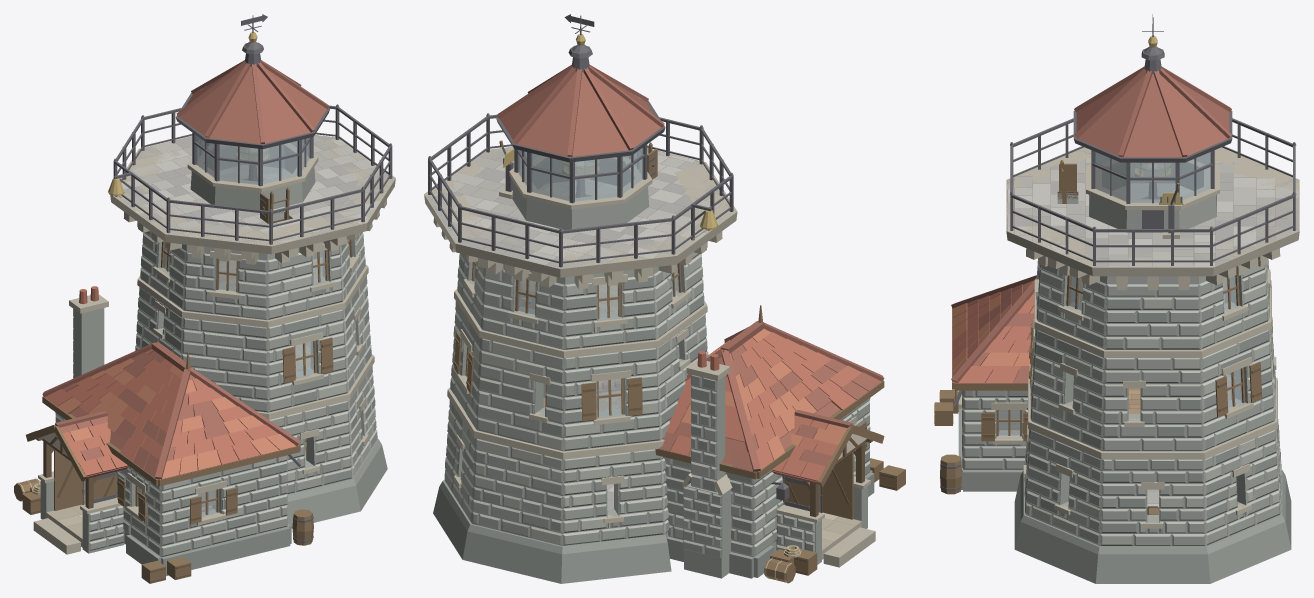
File: lastlight.glb
The picture shows the model from 3 angles, left to right: view 1: azimuth 30°, elevation 25°; view 2: azimuth 150°, elevation 25°; view 3: azimuth 270°, elevation 25°; orthographic projection. The views are drawn at different scales.
Visible parts, largest first — view 1: Lastlight_Roof, Lastlight_UpperShellKeeper, Lastlight_ShellWing, Lastlight_UpperGallery, Lastlight_UpperShellWatch, Lastlight_UpperFloorGalleryTiles, Lastlight_ShellTower, Lastlight_UpperLantern, Lastlight_ShellPlinth, Lastlight_ShellPorch, Lastlight_GlazingLantern, Lastlight_UpperShellString (+6 smaller); view 2: Lastlight_Roof, Lastlight_UpperShellKeeper, Lastlight_ShellTower, Lastlight_UpperGallery, Lastlight_UpperShellWatch, Lastlight_UpperFloorGalleryTiles, Lastlight_ShellPlinth, Lastlight_UpperLantern, Lastlight_ShellWing, Lastlight_UpperShellString, Lastlight_GlazingLantern, Lastlight_ShellPorch (+6 smaller); view 3: Lastlight_UpperShellKeeper, Lastlight_ShellTower, Lastlight_Roof, Lastlight_UpperShellWatch, Lastlight_UpperGallery, Lastlight_UpperFloorGalleryTiles, Lastlight_ShellPlinth, Lastlight_UpperLantern, Lastlight_ShellWing, Lastlight_UpperShellString, Lastlight_GlazingLantern, Lastlight_Yard (+5 smaller).
Part boxes in pixels (left/top/right/bottom): Lastlight_Roof: left=26, top=14, right=329, bottom=486; Lastlight_UpperShellKeeper: left=135, top=252, right=371, bottom=412; Lastlight_ShellWing: left=55, top=412, right=291, bottom=576; Lastlight_UpperGallery: left=108, top=104, right=395, bottom=264; Lastlight_UpperShellWatch: left=140, top=231, right=365, bottom=320; Lastlight_UpperFloorGalleryTiles: left=121, top=135, right=394, bottom=245; Lastlight_ShellTower: left=270, top=366, right=377, bottom=494; Lastlight_UpperLantern: left=187, top=133, right=318, bottom=209; Lastlight_ShellPlinth: left=287, top=439, right=387, bottom=527; Lastlight_ShellPorch: left=36, top=437, right=124, bottom=553; Lastlight_GlazingLantern: left=196, top=135, right=310, bottom=184; Lastlight_UpperShellString: left=137, top=265, right=374, bottom=419; Lastlight_Roof: left=496, top=14, right=884, bottom=578; Lastlight_UpperShellKeeper: left=450, top=301, right=708, bottom=451; Lastlight_ShellTower: left=444, top=400, right=669, bottom=545; Lastlight_UpperGallery: left=424, top=113, right=737, bottom=289; Lastlight_UpperShellWatch: left=457, top=252, right=704, bottom=349; Lastlight_UpperFloorGalleryTiles: left=425, top=148, right=729, bottom=268; Lastlight_ShellPlinth: left=433, top=480, right=671, bottom=583; Lastlight_UpperLantern: left=509, top=144, right=652, bottom=229; Lastlight_ShellWing: left=664, top=398, right=874, bottom=578; Lastlight_UpperShellString: left=447, top=289, right=707, bottom=459; Lastlight_GlazingLantern: left=518, top=148, right=643, bottom=201; Lastlight_ShellPorch: left=776, top=439, right=872, bottom=564; Lastlight_UpperShellKeeper: left=1029, top=317, right=1276, bottom=451; Lastlight_ShellTower: left=1023, top=418, right=1281, bottom=546; Lastlight_Roof: left=951, top=14, right=1232, bottom=390; Lastlight_UpperShellWatch: left=1035, top=200, right=1270, bottom=349; Lastlight_UpperGallery: left=1006, top=118, right=1299, bottom=290; Lastlight_UpperFloorGalleryTiles: left=1007, top=150, right=1298, bottom=266; Lastlight_ShellPlinth: left=1014, top=470, right=1291, bottom=583; Lastlight_UpperLantern: left=1086, top=150, right=1219, bottom=232; Lastlight_ShellWing: left=954, top=390, right=1027, bottom=491; Lastlight_UpperShellString: left=1028, top=280, right=1277, bottom=459; Lastlight_GlazingLantern: left=1095, top=152, right=1210, bottom=202; Lastlight_Yard: left=934, top=390, right=962, bottom=494.
Size of the model in its own units: 11.98 by 15.4 by 10.04.
